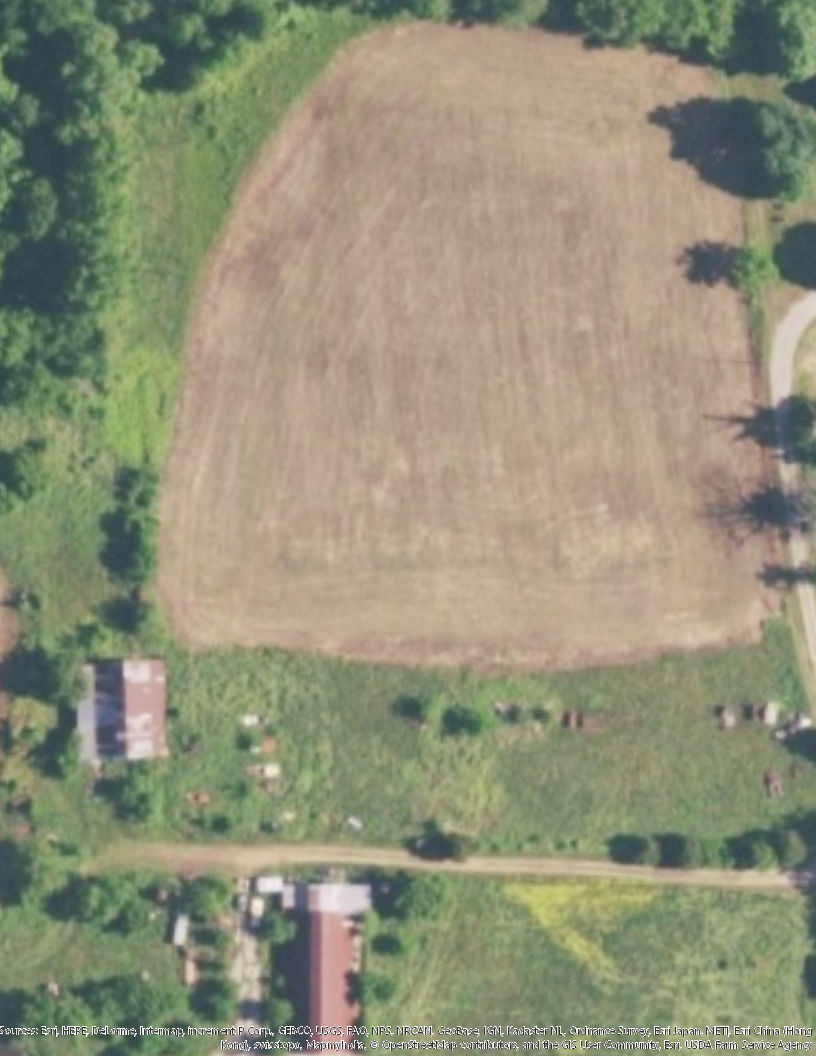cafo: (250, 868, 382, 1056), (69, 650, 178, 771)
